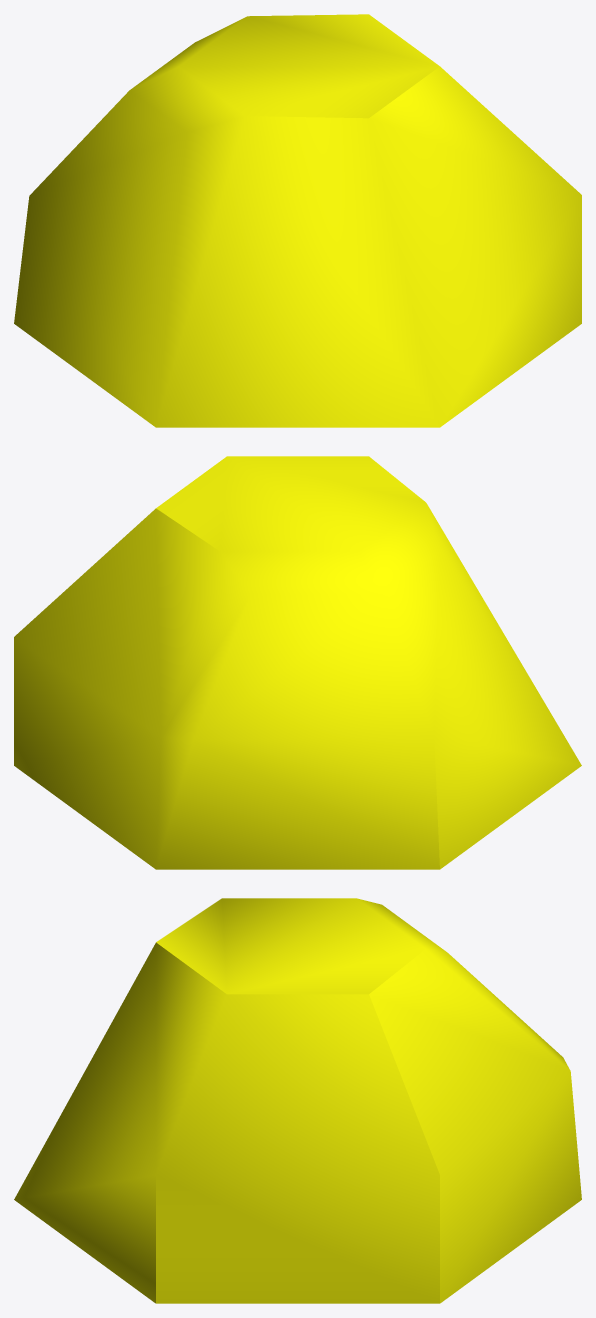
Rendered from kaykit-rock-b.glb.
3 renders of one model, top to bottom at view 1: azimuth 30°, elevation 25°; view 2: azimuth 150°, elevation 25°; view 3: azimuth 270°, elevation 25°, orthographic.
Visible parts, largest first — view 1: rock_B; view 2: rock_B; view 3: rock_B.
Part boxes in pixels (<box>): rock_B: <box>14,14,581,427</box>; rock_B: <box>14,456,581,869</box>; rock_B: <box>14,898,581,1303</box>.
Bounding box in the file's own units: 0.6953 × 0.4015 × 0.8028.
